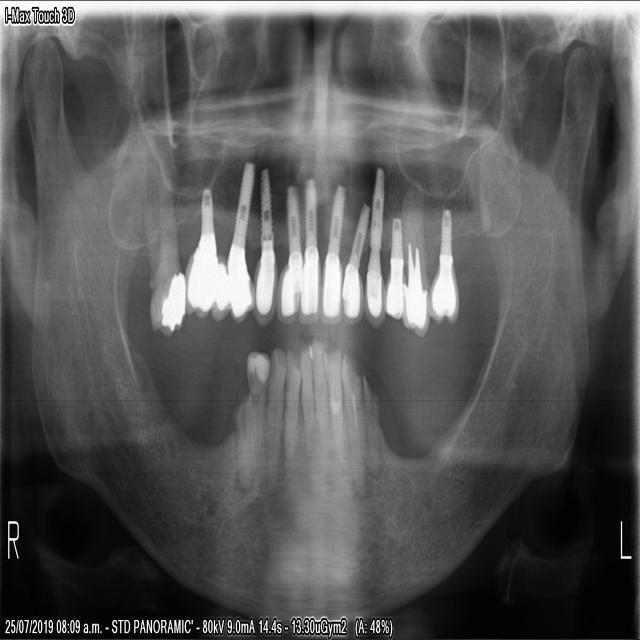LCD: (326, 345, 346, 453)
LCU: (340, 198, 370, 324)
LID: (313, 338, 331, 450), (299, 340, 315, 458)
LIU: (319, 179, 346, 330), (298, 165, 321, 323)
LMU: (402, 194, 432, 335), (429, 205, 458, 327)
LPMD: (341, 354, 367, 497), (362, 379, 382, 479)
LPMU: (362, 168, 385, 329), (385, 197, 404, 320)
RCD: (244, 347, 269, 493)
RCU: (225, 164, 255, 324)
RID: (265, 348, 286, 492), (281, 348, 301, 460)
RIU: (252, 165, 277, 332), (279, 177, 302, 324)
RMU: (185, 182, 230, 328), (148, 193, 185, 338)
RPMD: (231, 384, 252, 492)
